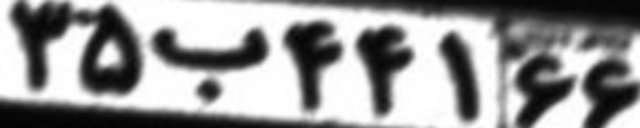1: (434, 30, 479, 123)
3: (11, 0, 72, 89)
4: (355, 21, 418, 116), (283, 18, 340, 110)
5: (80, 2, 141, 93)
6: (511, 53, 574, 127), (580, 52, 637, 127)
be: (151, 25, 269, 102)
